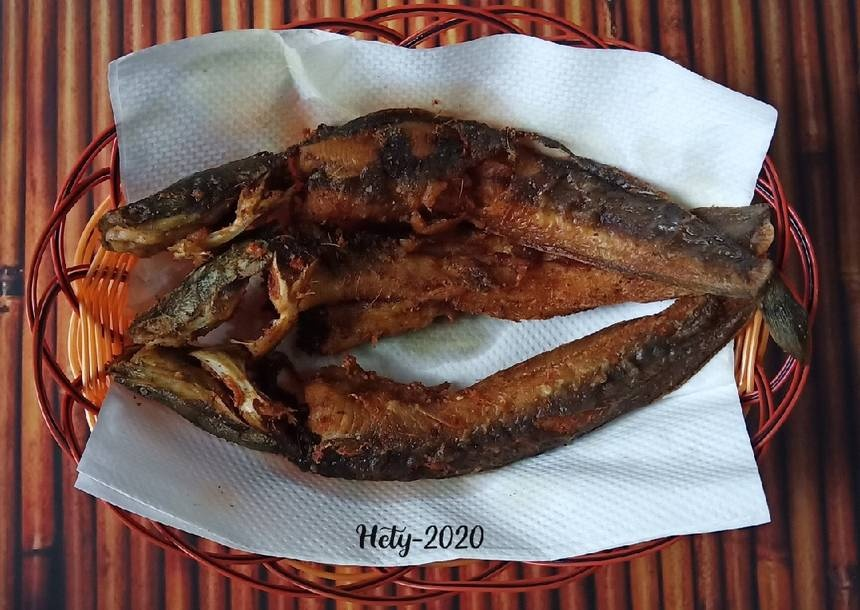pecel_lele: (76, 126, 769, 297), (81, 326, 736, 483)
